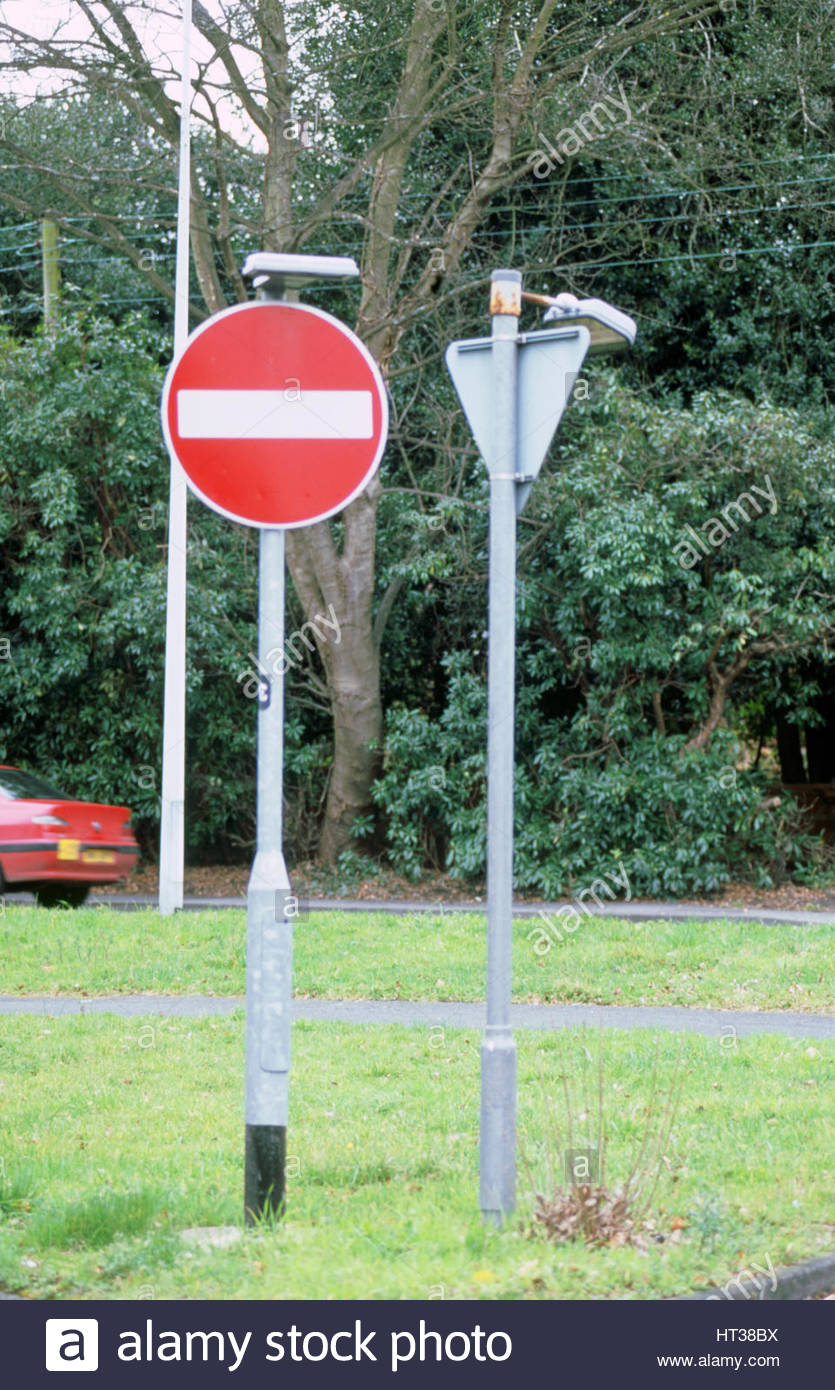No_entry: (161, 301, 387, 532)
